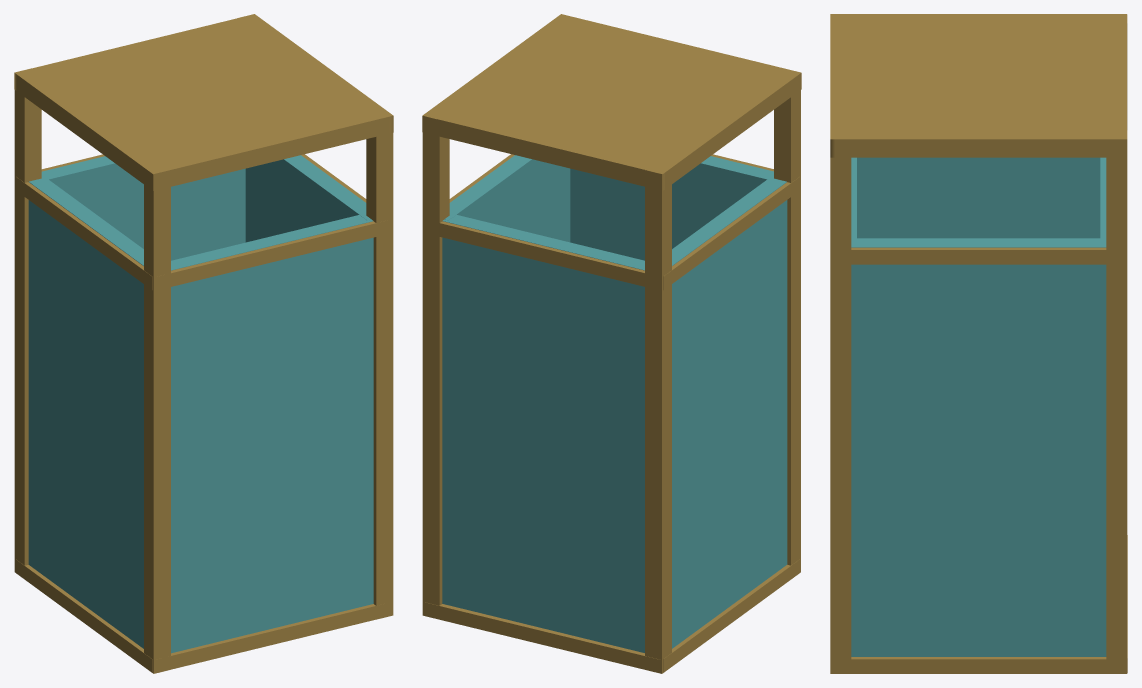
File: trashcan.fbx
3 renders of one model, left to right at view 1: azimuth 30°, elevation 25°; view 2: azimuth 150°, elevation 25°; view 3: azimuth 270°, elevation 25°, orthographic. The views are drawn at different scales.
Visible parts, largest first — view 1: plastic, metal; view 2: plastic, metal; view 3: plastic, metal.
Part boxes in pixels (left/top/right/bottom): plastic: left=28, top=155, right=373, bottom=653; metal: left=14, top=14, right=393, bottom=673; plastic: left=442, top=155, right=787, bottom=652; metal: left=422, top=14, right=801, bottom=673; plastic: left=851, top=157, right=1106, bottom=656; metal: left=830, top=14, right=1127, bottom=673.
Size of the model in its own units: 30.38 by 60.37 by 30.46.
